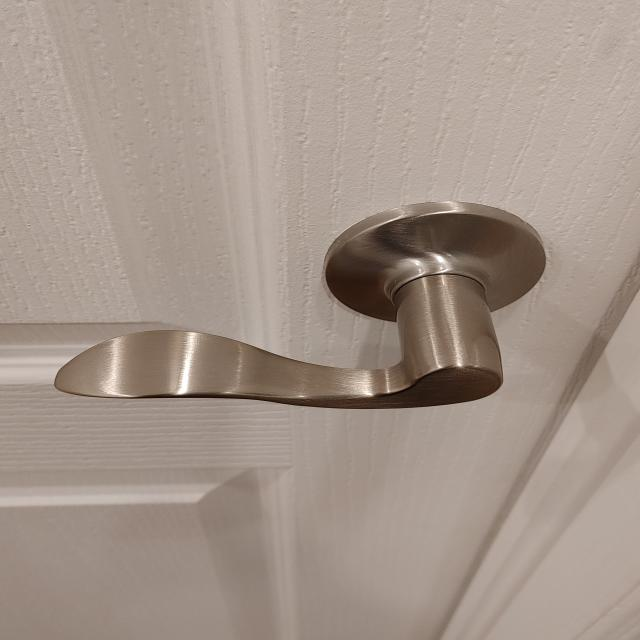door-handle: (55, 201, 545, 409)
